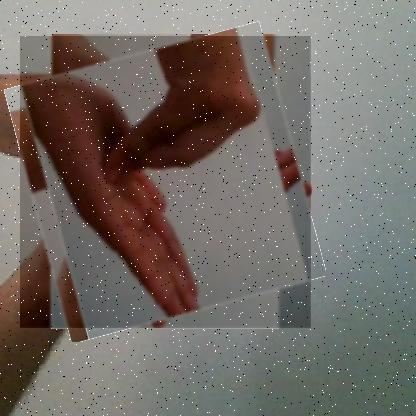Z: (20, 36, 312, 329)
